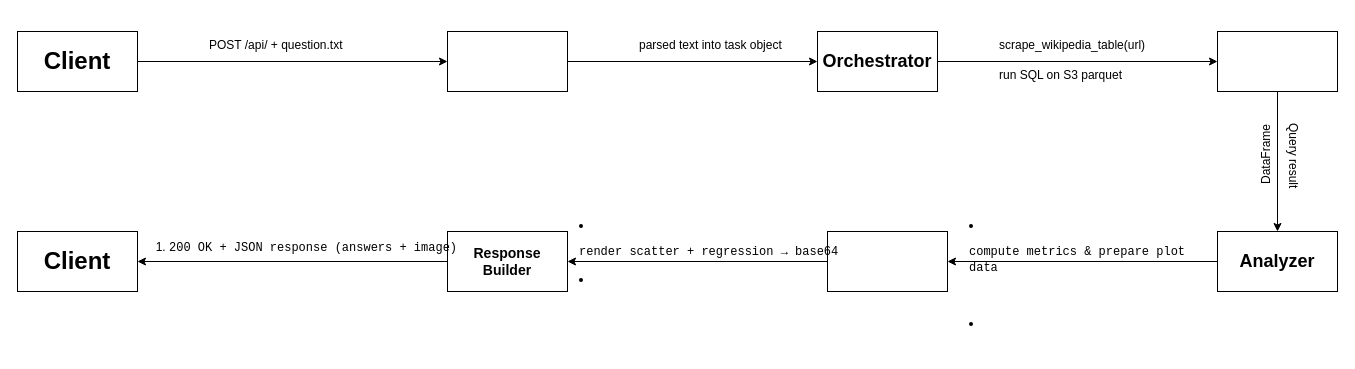
The diagram is 1355 pixels wide and 369 high, and some of its shapes have lost their labels. The shapes that lost their labels are listed below. From the top down, each one's centre as x and y in pixels, then its label:
the point at 507,61: FastAPI
the point at 1277,61: (a) Scraper or (b) DuckDB
the point at 887,261: Plotter
